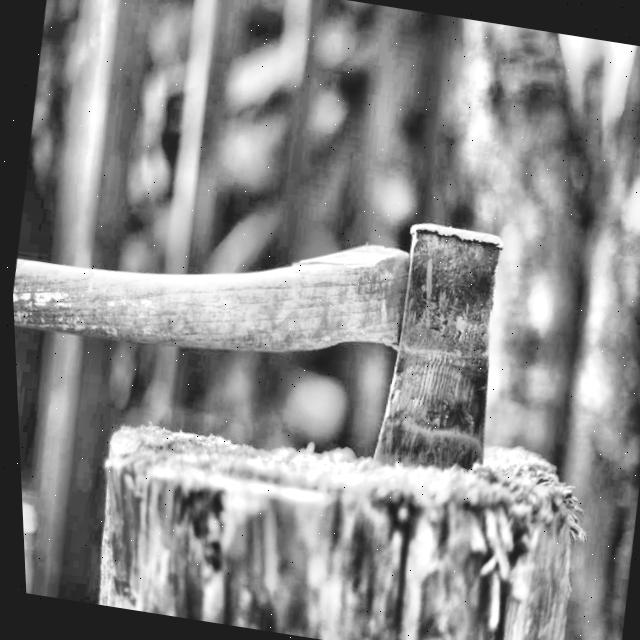kapak: (13, 218, 513, 467)
